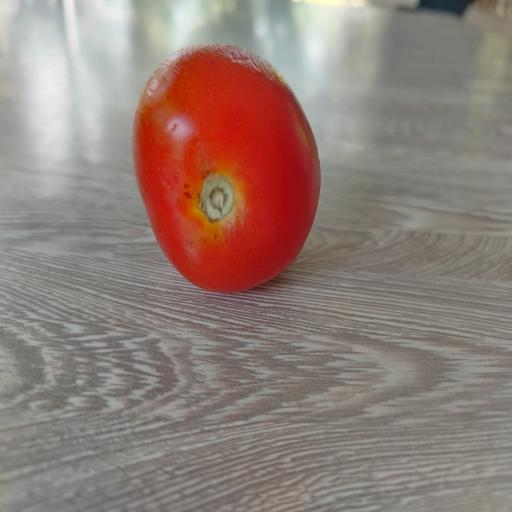spoiled: (133, 45, 320, 292)
